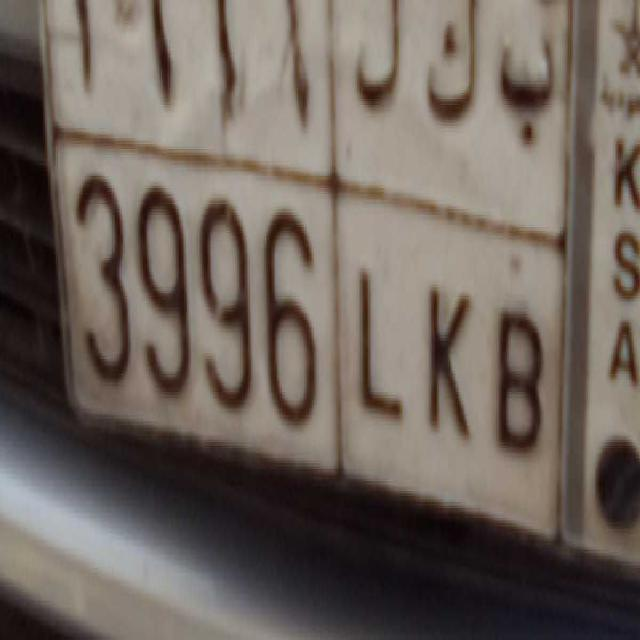license_plate: (61, 130, 550, 487)
